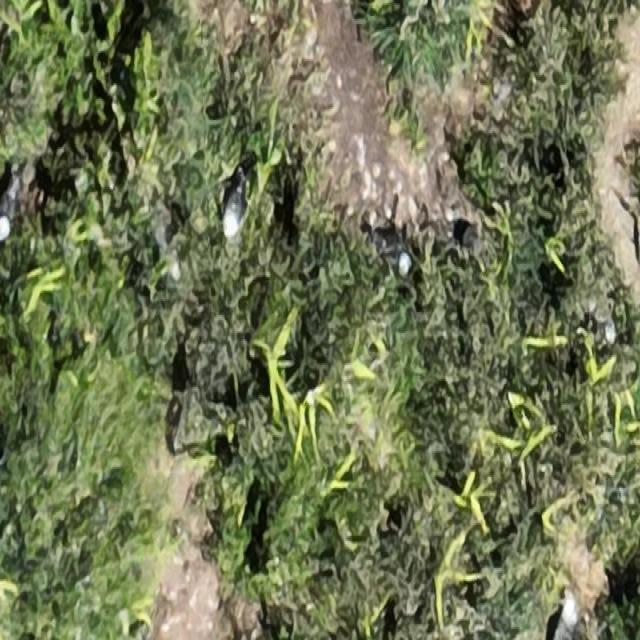umineko: (221, 168, 248, 238), (379, 234, 416, 278), (554, 586, 581, 638), (3, 171, 22, 240)
